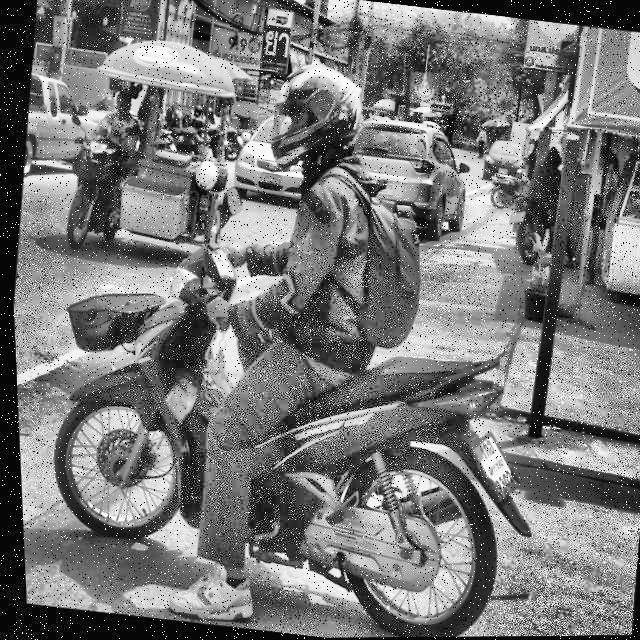Helmet: (259, 54, 372, 182)
